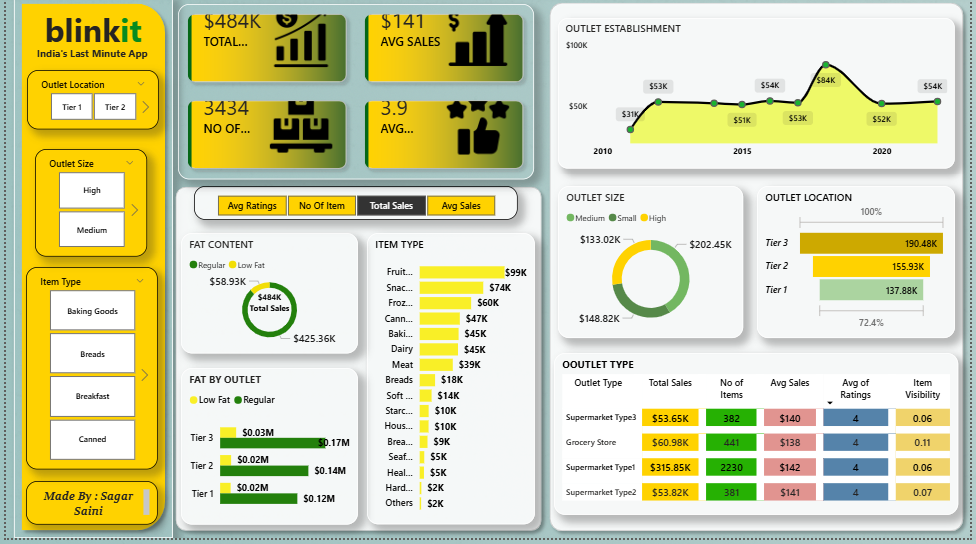

Layout of this report page (visuals, bound fields, positions):
{"tool":"powerbi","page":{"name":"Page 1","canvas":[1280,720],"ordinal":0},"visuals":[{"type":"shape","box":[11,0,210.6,719.8],"z":0},{"type":"textbox","box":[9,62.7,210.6,35.9],"z":1000},{"type":"textbox","box":[10.5,10.5,210.6,70.2],"z":2000},{"type":"shape","box":[216.1,245,503.7,474.8],"z":4000},{"type":"cardVisual","fields":{"Data":["BlinkIT Grocery Data.Total Sales","BlinkIT Grocery Data.Avg Sales","BlinkIT Grocery Data.No of Items","BlinkIT Grocery Data.Avg of Ratings"]},"box":[228.5,11,473.5,233],"z":4500},{"type":"donutChart","title":"FAT CONTENT","fields":{"Y":["BlinkIT Grocery Data.Total Sales"],"Category":["BlinkIT Grocery Data.Item Fat Content"]},"box":[232.6,315.2,235.4,159.7],"z":5000},{"type":"slicer","fields":{"Values":["Metrics .Metrics "]},"box":[249.5,252.4,430.2,44.8],"z":6000},{"type":"cardVisual","fields":{"Data":["BlinkIT Grocery Data.Total Sales"]},"box":[305.5,360.6,89.5,93.6],"z":7000},{"type":"clusteredBarChart","title":"FAT BY OUTLET","fields":{"Y":["BlinkIT Grocery Data.Total Sales"],"Category":["BlinkIT Grocery Data.Outlet Location Type"],"Series":["BlinkIT Grocery Data.Item Fat Content"]},"box":[232.6,494.1,235.4,207.8],"z":8000},{"type":"barChart","title":"ITEM TYPE","fields":{"Y":["BlinkIT Grocery Data.Total Sales"],"Category":["BlinkIT Grocery Data.Item Type"]},"box":[479,315.2,223,386.8],"z":9000},{"type":"shape","box":[712.9,0,567.1,719.8],"z":10000},{"type":"lineChart","title":"OUTLET ESTABLISHMENT","fields":{"Category":["BlinkIT Grocery Data.Outlet Establishment Year"],"Y":["BlinkIT Grocery Data.Total Sales"]},"box":[733.6,28.9,527.1,199.6],"z":11000},{"type":"donutChart","title":"OUTLET SIZE","fields":{"Y":["BlinkIT Grocery Data.Total Sales"],"Category":["BlinkIT Grocery Data.Outlet Size"]},"box":[733.6,251.9,246.4,202.3],"z":12000},{"type":"funnel","title":"OUTLET LOCATION","fields":{"Y":["Sum(BlinkIT Grocery Data.Sales)"],"Category":["BlinkIT Grocery Data.Outlet Location Type"]},"box":[997.6,252.4,263,201.9],"z":13000},{"type":"pivotTable","title":"OOUTLET TYPE","fields":{"Rows":["BlinkIT Grocery Data.Outlet Type"],"Values":["BlinkIT Grocery Data.Total Sales","BlinkIT Grocery Data.No of Items","BlinkIT Grocery Data.Avg Sales","BlinkIT Grocery Data.Avg of Ratings","Avg(BlinkIT Grocery Data.Item Visibility)"]},"box":[728.1,474.8,536.8,214.7],"z":14000},{"type":"slicer","fields":{"Values":["BlinkIT Grocery Data.Outlet Location Type"]},"box":[28.4,98.6,174.8,79.2],"z":15000},{"type":"slicer","fields":{"Values":["BlinkIT Grocery Data.Outlet Size"]},"box":[38.8,203.2,149.4,143.4],"z":16000},{"type":"slicer","fields":{"Values":["BlinkIT Grocery Data.Item Type"]},"box":[26.9,360,174.8,268.9],"z":17000},{"type":"textbox","box":[26.9,643.8,174.8,58.3],"z":18000}]}

Visuals, with their boxes in screenshot pixels (x1, y1, x2, y2), scaled from the page's 1280x720 canvas onto the 976x544 screenshot:
shape: (8,0,169,543)
textbox: (7,47,167,74)
textbox: (8,8,169,61)
shape: (165,185,549,543)
cardVisual - BlinkIT Grocery Data.Total Sales x BlinkIT Grocery Data.Avg Sales: (174,8,535,184)
"FAT CONTENT" donutChart: (177,238,357,359)
slicer - Metrics .Metrics : (190,191,518,225)
cardVisual - BlinkIT Grocery Data.Total Sales: (233,272,301,343)
"FAT BY OUTLET" clusteredBarChart: (177,373,357,530)
"ITEM TYPE" barChart: (365,238,535,530)
shape: (544,0,975,543)
"OUTLET ESTABLISHMENT" lineChart: (559,22,961,173)
"OUTLET SIZE" donutChart: (559,190,747,343)
"OUTLET LOCATION" funnel: (761,191,961,343)
"OOUTLET TYPE" pivotTable: (555,359,964,521)
slicer - BlinkIT Grocery Data.Outlet Location Type: (22,74,155,134)
slicer - BlinkIT Grocery Data.Outlet Size: (30,154,144,262)
slicer - BlinkIT Grocery Data.Item Type: (21,272,154,475)
textbox: (21,486,154,530)
